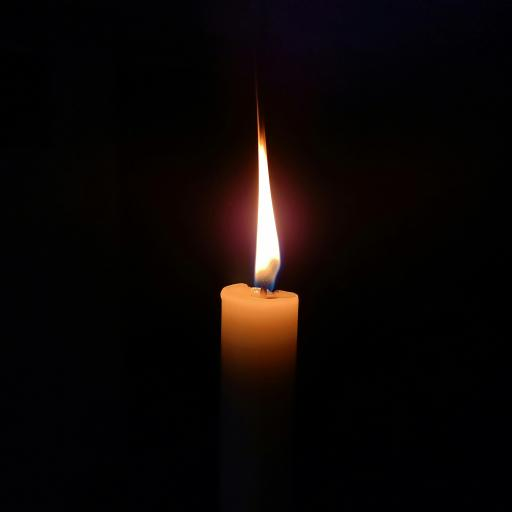candlelight: (221, 76, 299, 508), (246, 66, 286, 296)
